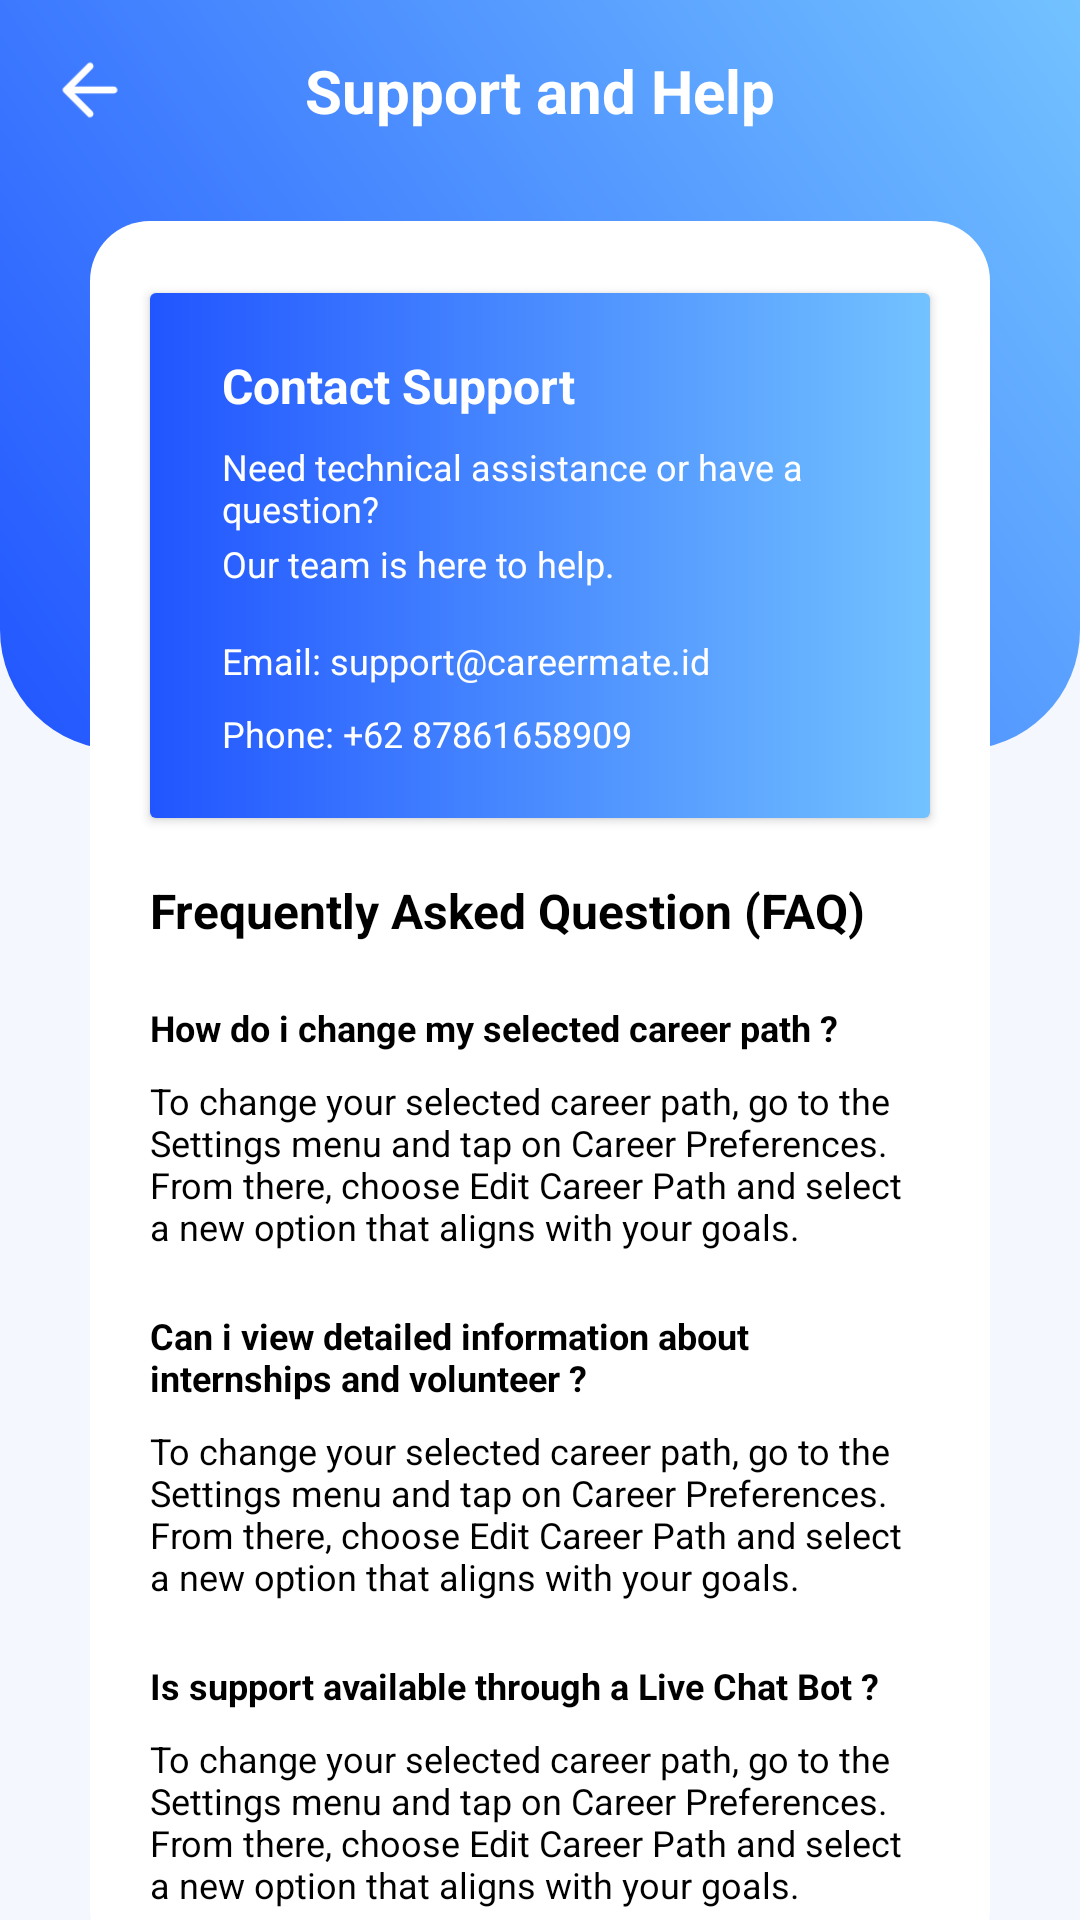

Locate icon controls on the screen. Image size 1080*1920, boxes as (x1, y1, x2, y2).
ICON BACK SUPPORT HELP: (62, 62, 118, 118)
